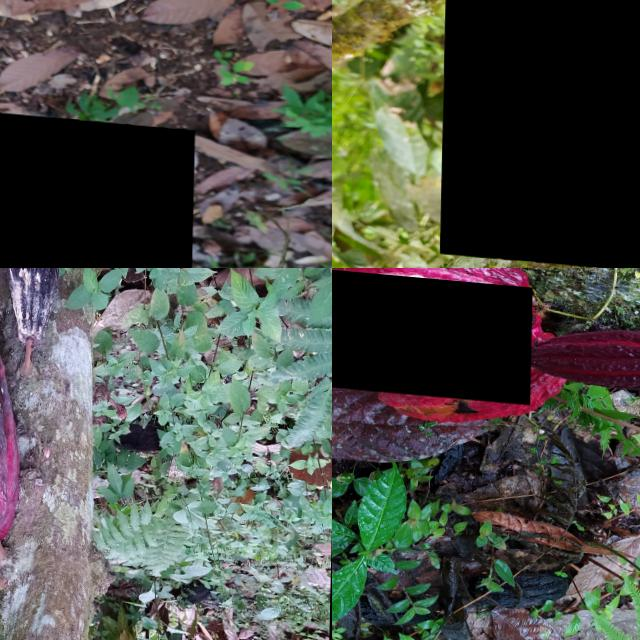Monilia: (0, 103, 196, 268), (332, 268, 533, 397), (0, 284, 25, 533), (7, 268, 57, 341)
Sana: (442, 0, 640, 268), (379, 356, 564, 422), (518, 311, 640, 391), (332, 268, 540, 288)
